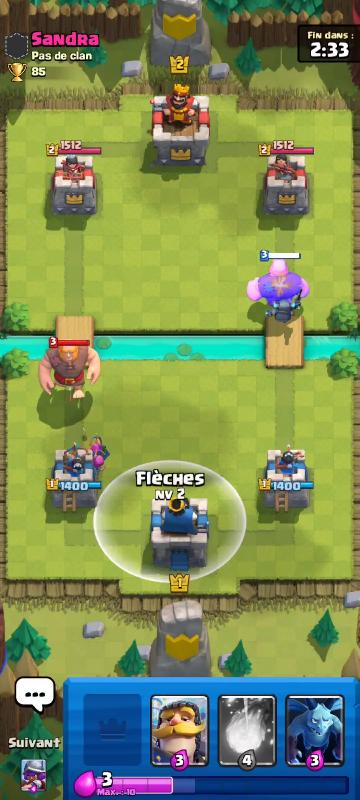archere: (91, 434, 110, 460), (91, 454, 107, 475)
geant: (40, 341, 104, 401), (248, 256, 309, 308)
mini_PEKKA: (265, 294, 302, 328)
